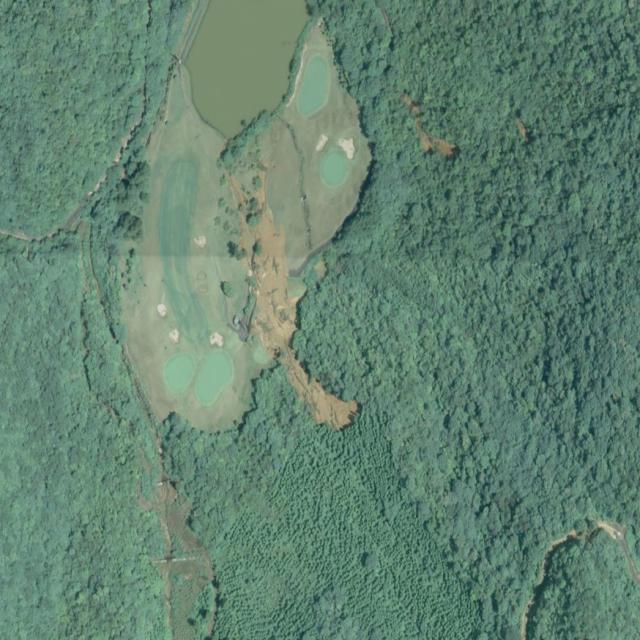landslide: (222, 21, 370, 431)
